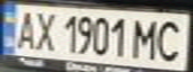0: (90, 14, 112, 56)
1: (109, 15, 130, 57), (57, 11, 78, 53)
9: (75, 12, 93, 55)
A: (9, 7, 39, 51)
C: (151, 16, 187, 62)
M: (130, 16, 163, 61)
X: (30, 8, 60, 52)
